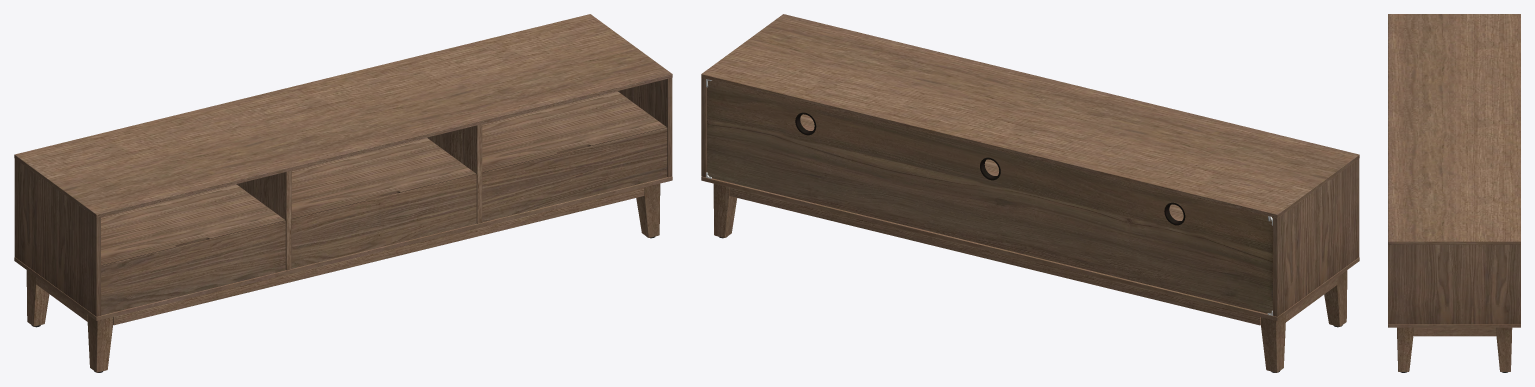
Rendered from abo-B072ZRPFJL.glb.
The picture shows the model from 3 angles, left to right: view 1: azimuth 30°, elevation 25°; view 2: azimuth 150°, elevation 25°; view 3: azimuth 270°, elevation 25°; orthographic projection. The views are drawn at different scales.
Size of the model in its own units: 1.48 by 0.409 by 0.366.
Materials: 1 (1 with a texture image).
